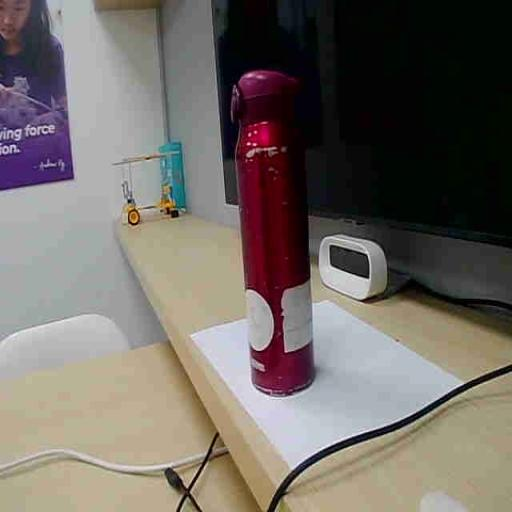bottle: (232, 71, 314, 394)
